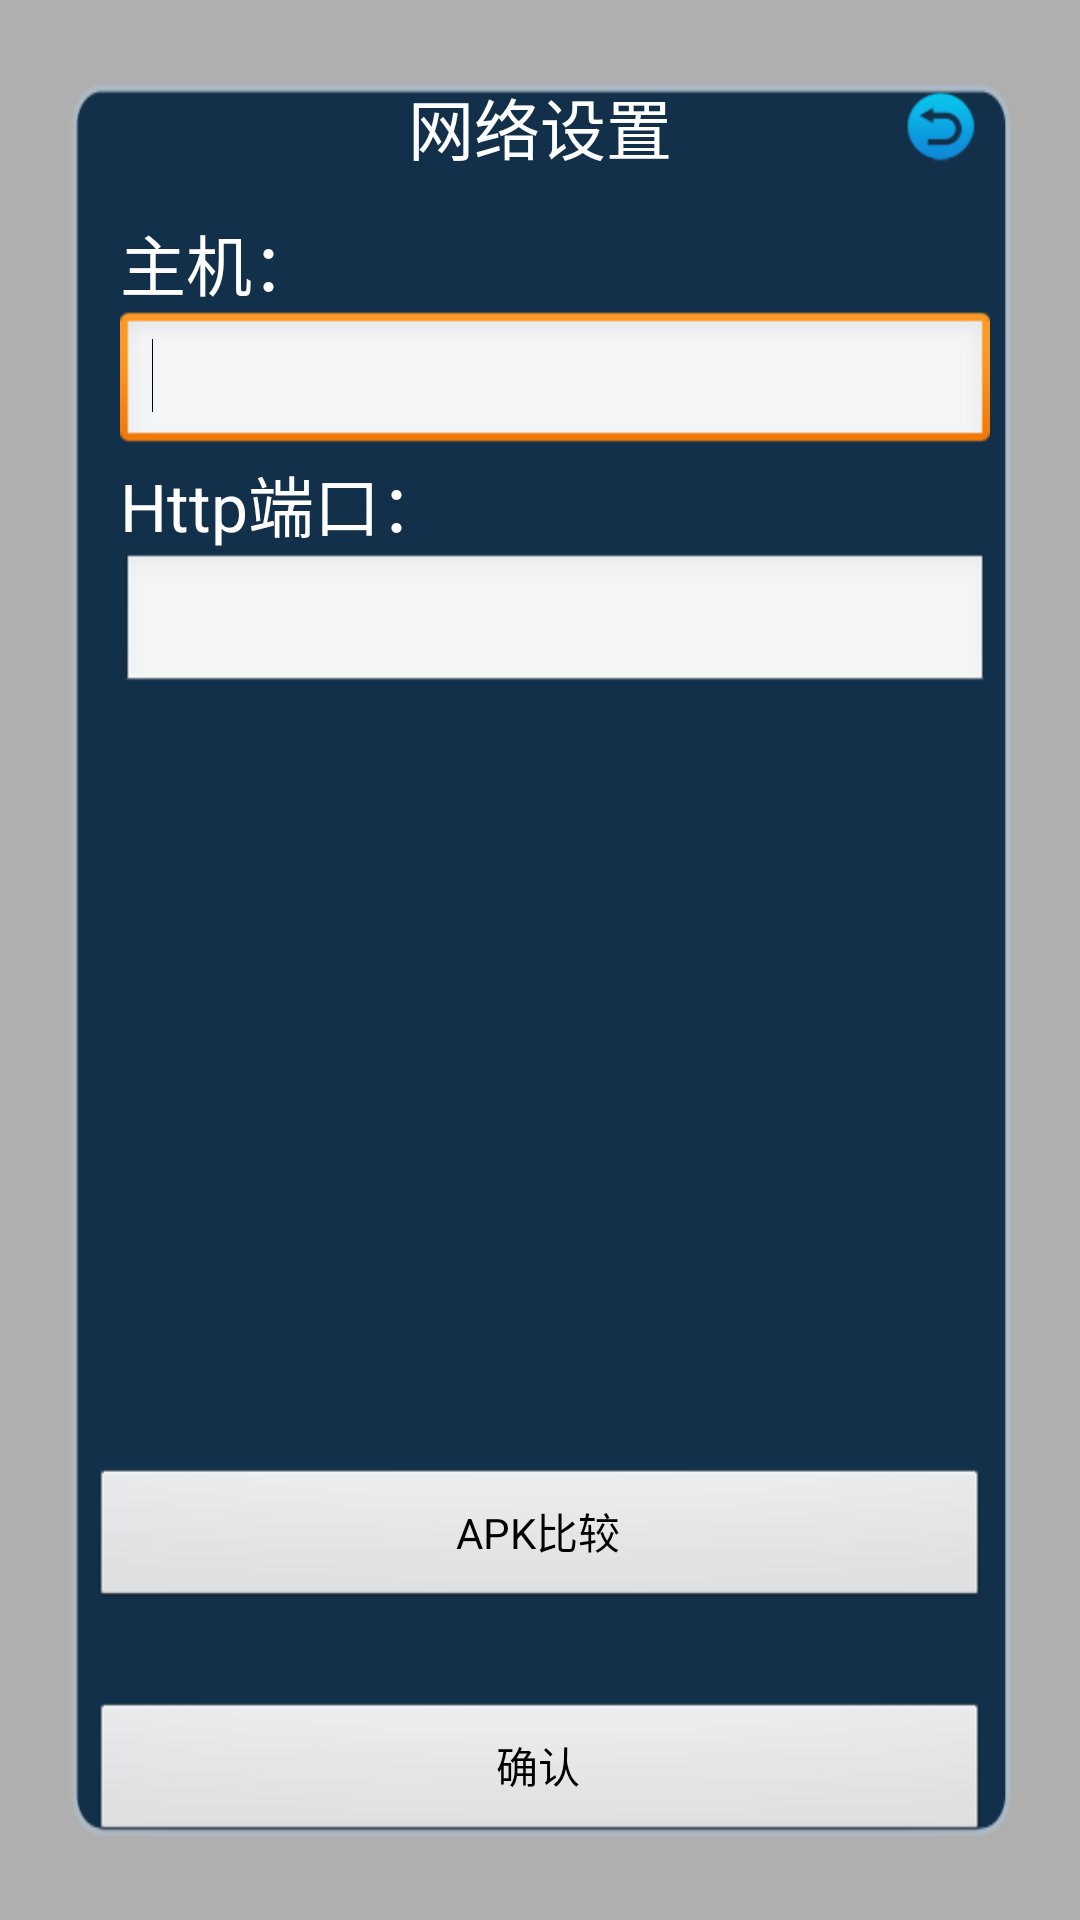

Named icons in this screenshot (1080px×1920px) and their centers, (x,y):
取消: (940,118)
